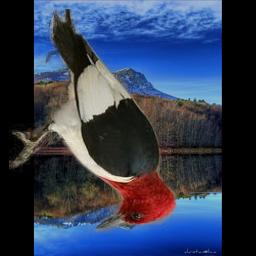Woodpecker: (9, 9, 179, 234)
